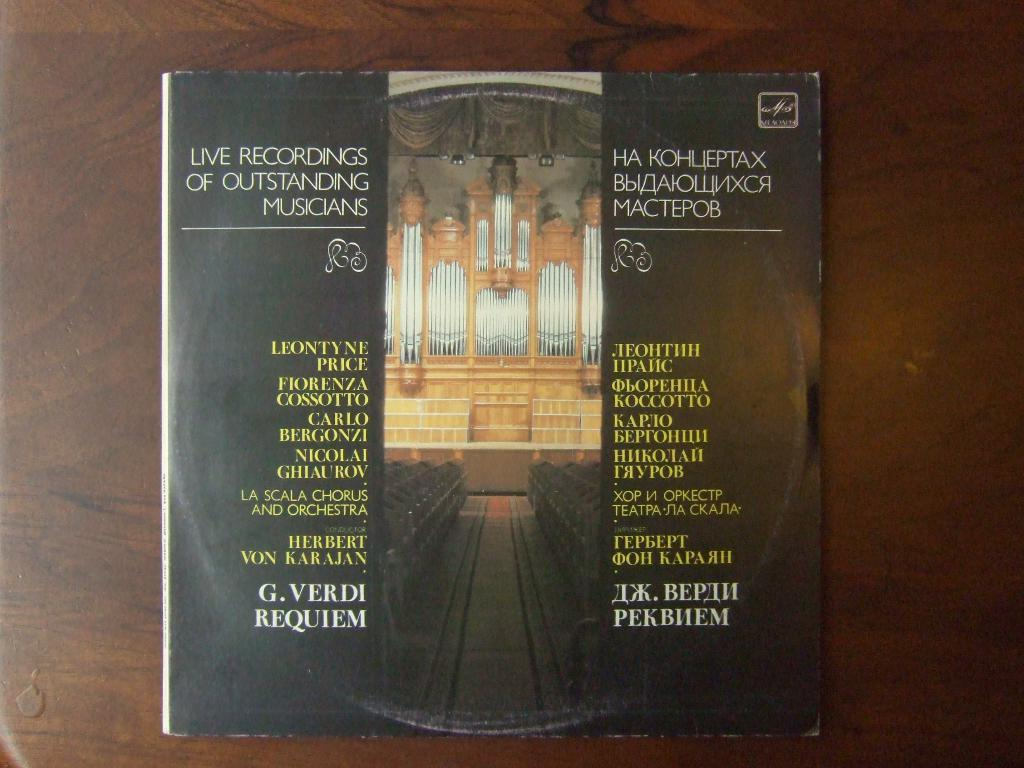book: (159, 73, 821, 735)
